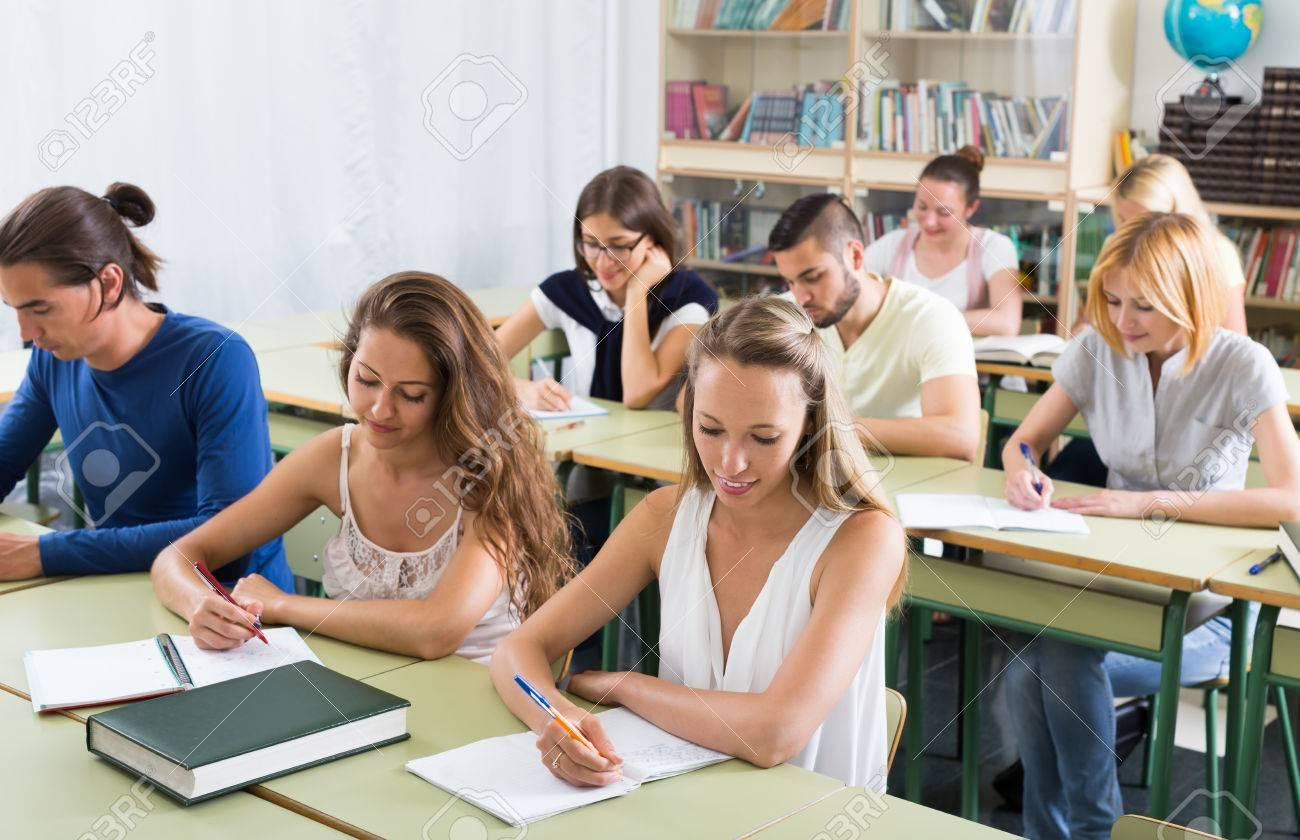student: (120, 284, 549, 711), (556, 302, 918, 802), (1, 156, 274, 606), (1007, 219, 1300, 541), (485, 164, 700, 471), (785, 192, 1010, 485)
